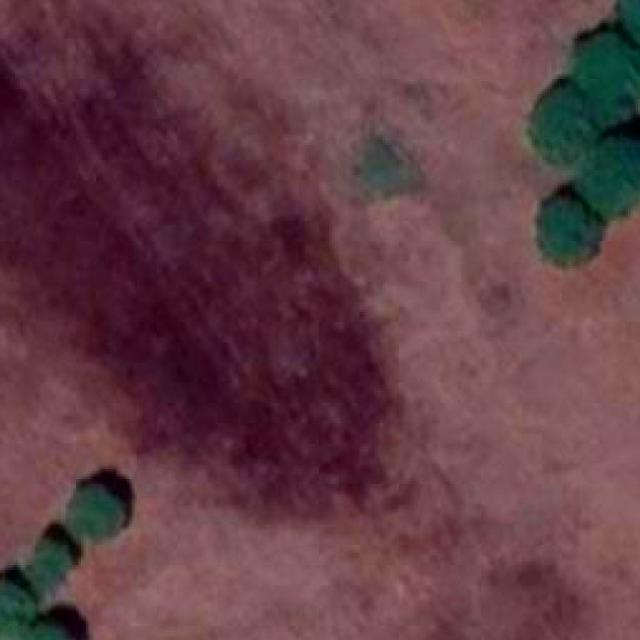Tree: (574, 32, 640, 118), (534, 79, 598, 158), (542, 196, 600, 270), (584, 140, 640, 208), (65, 487, 118, 541), (22, 538, 66, 588), (0, 577, 31, 635), (20, 626, 81, 640)
